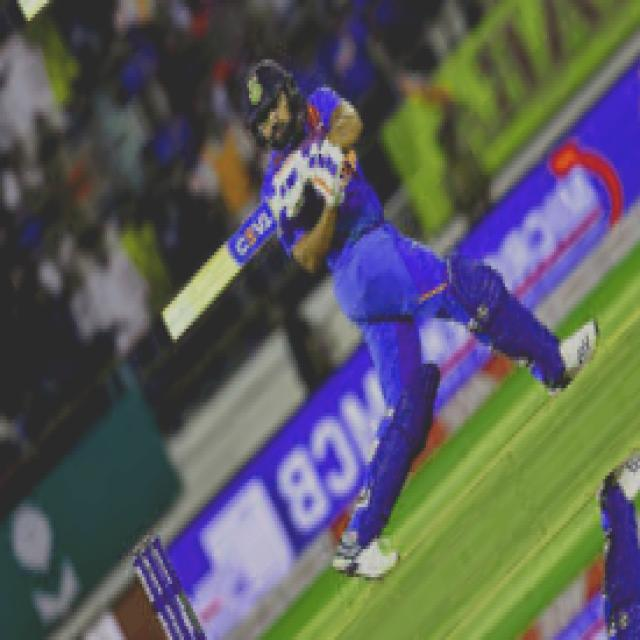toe: (160, 309, 180, 342)
